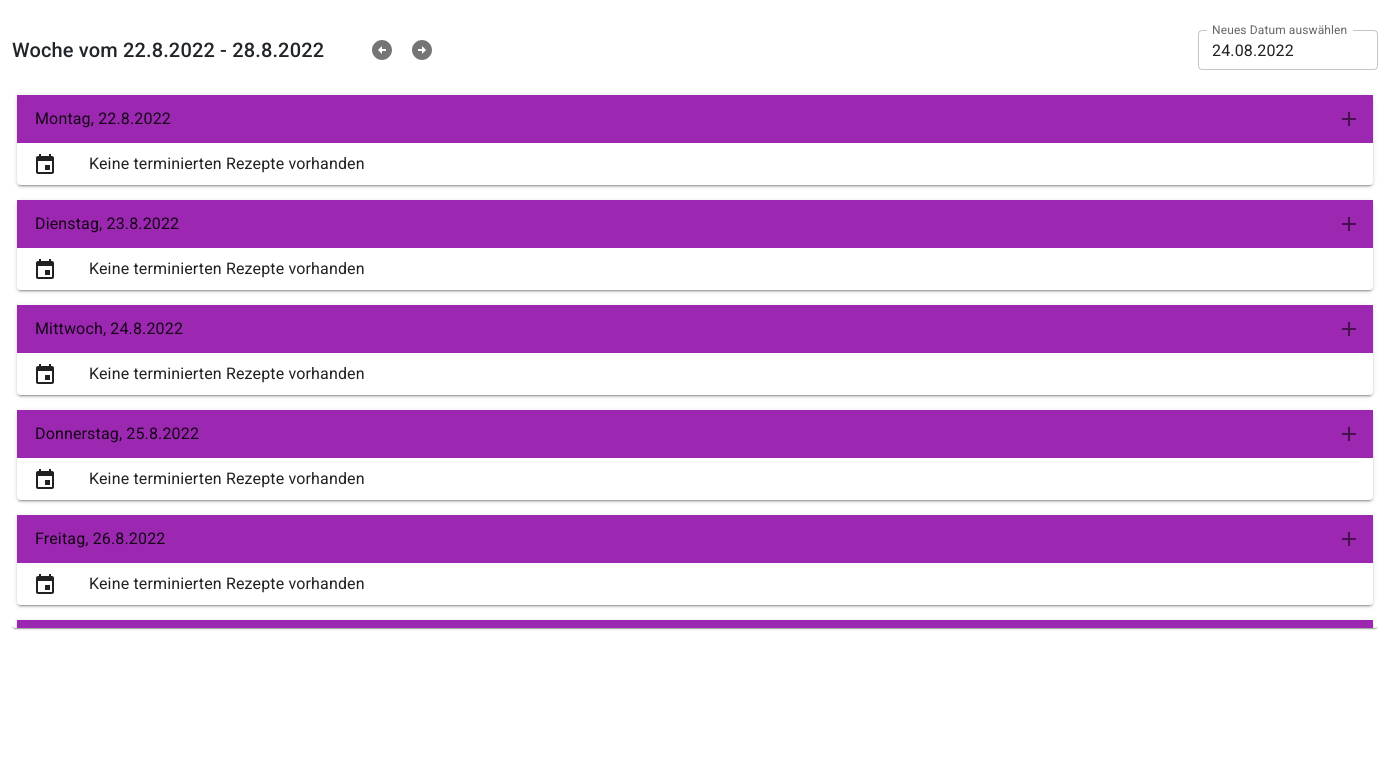
Test case: renders correct header with click on next week
Click the button with class "weeklyScheduleView__buttonNext": {"x": 422, "y": 50} x1=402 y1=30 x2=442 y2=70
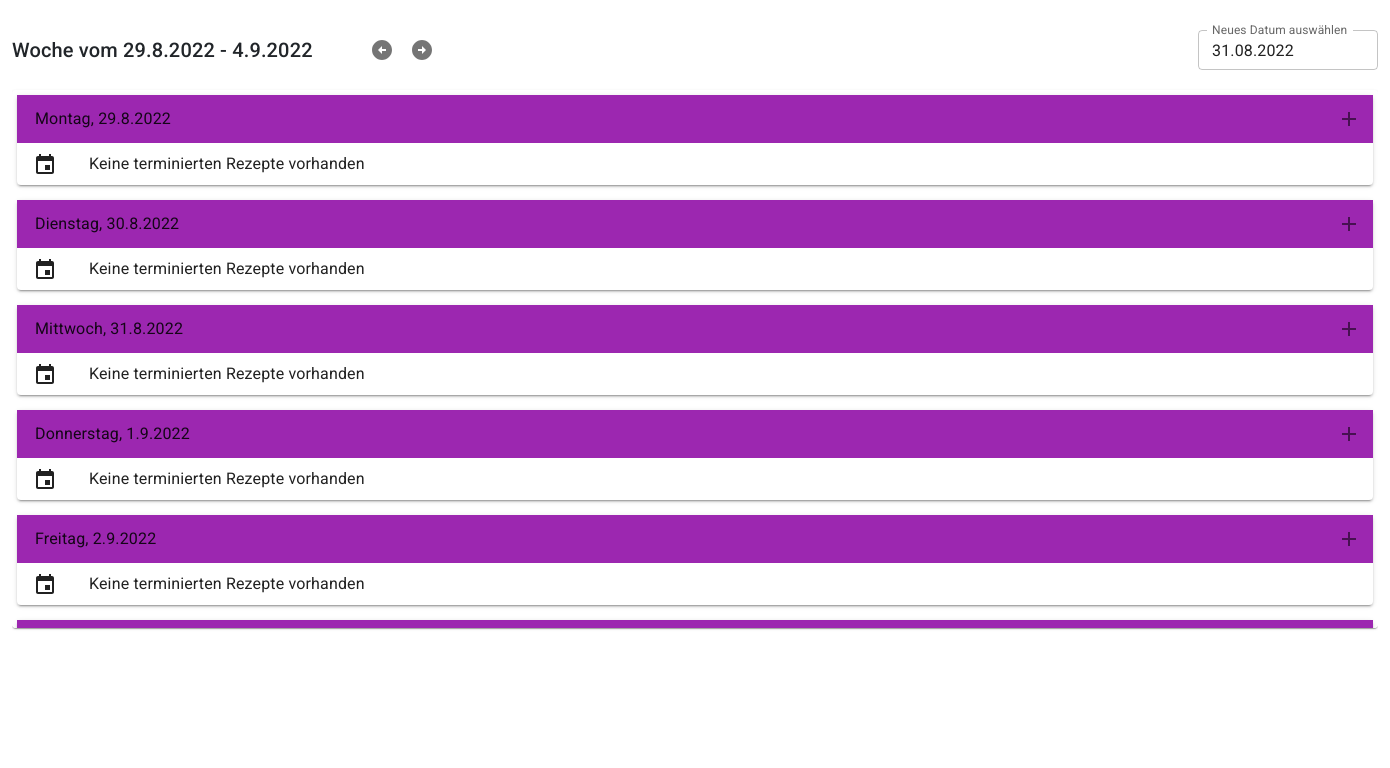
Result: the text with class "weeklyScheduleView__header" reads "Woche vom 29.8.2022 - 4.9.2022" at x1=12 y1=34 x2=347 y2=66
